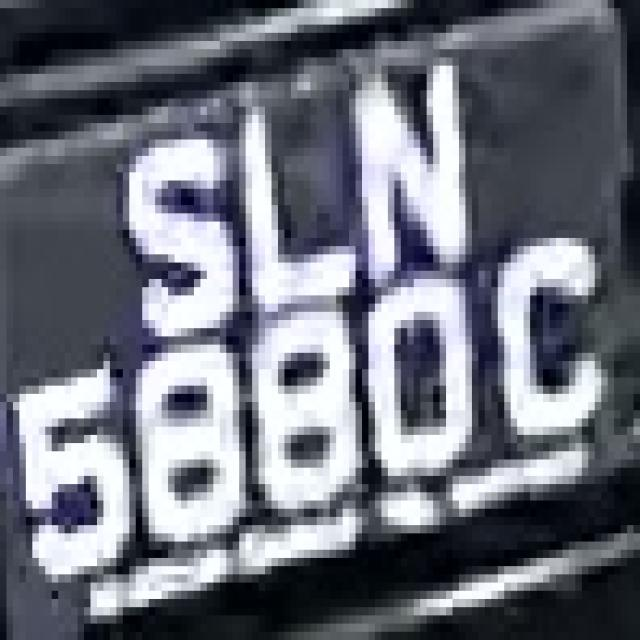0: (362, 263, 472, 492)
5: (20, 344, 130, 590)
8: (232, 304, 356, 501), (136, 344, 252, 542)
C: (485, 238, 608, 451)
L: (220, 74, 356, 303)
N: (342, 74, 484, 254)
S: (90, 107, 232, 328)
